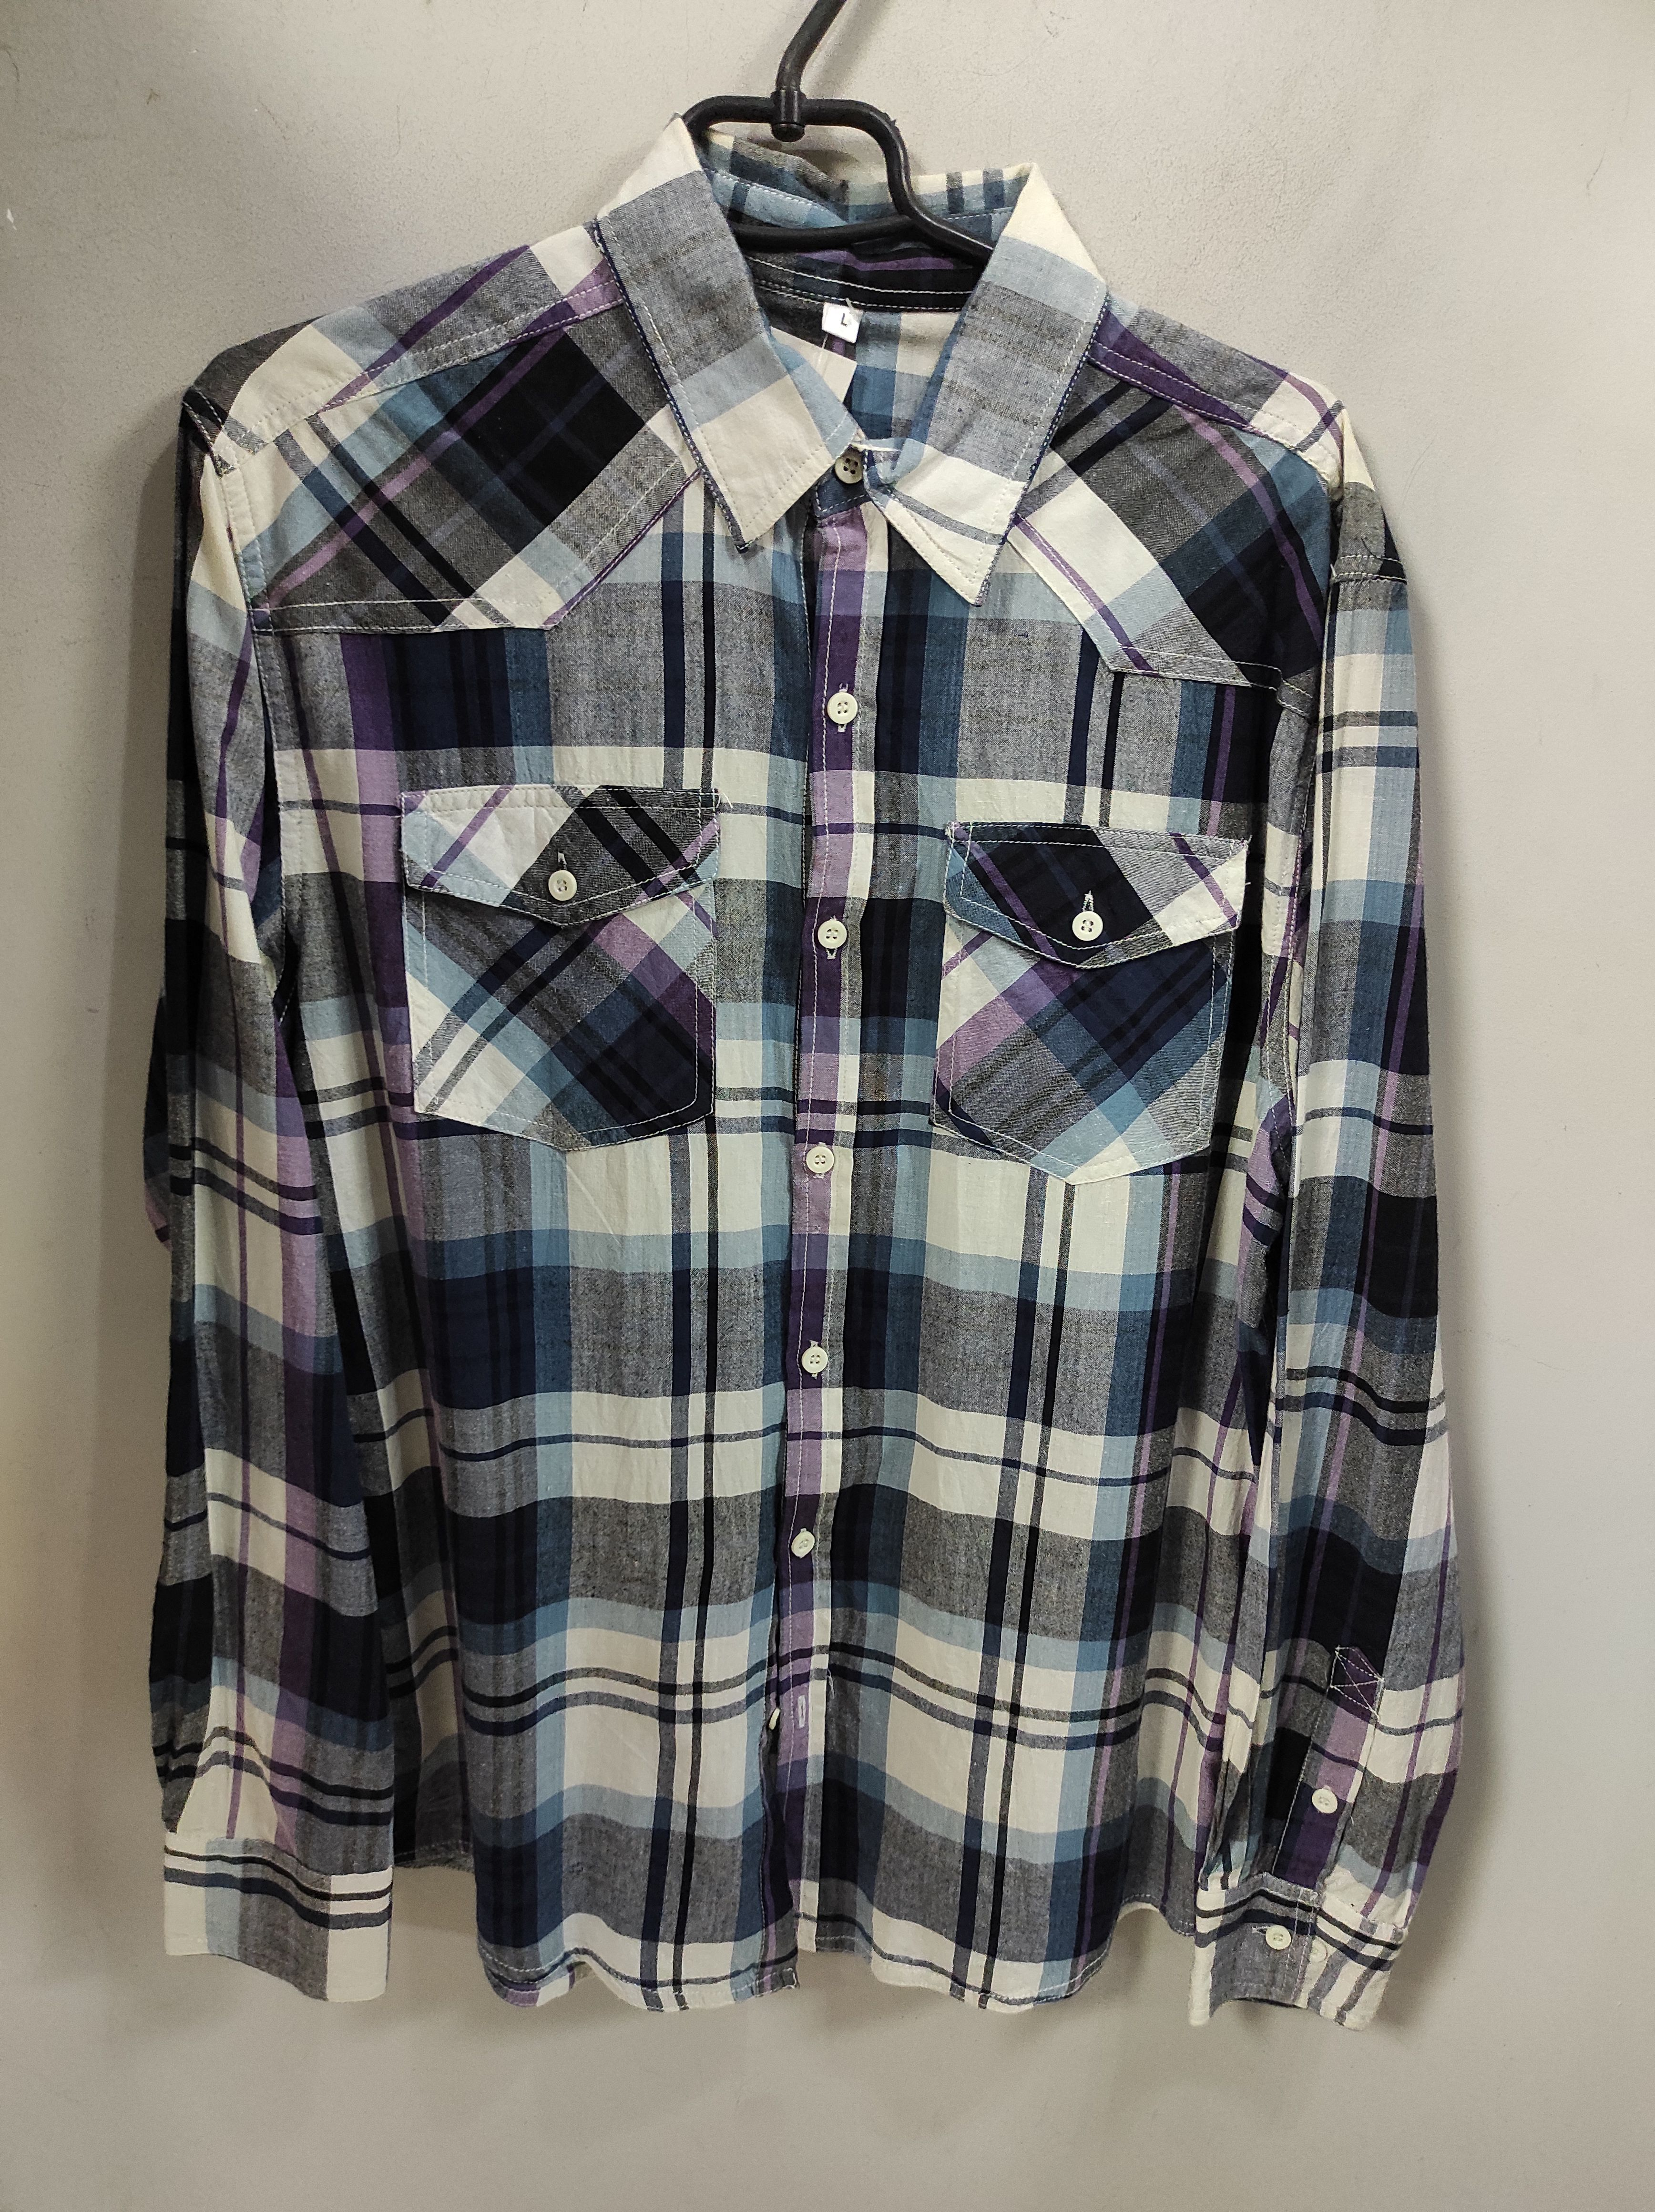clothes: (43, 117, 1486, 2038)
